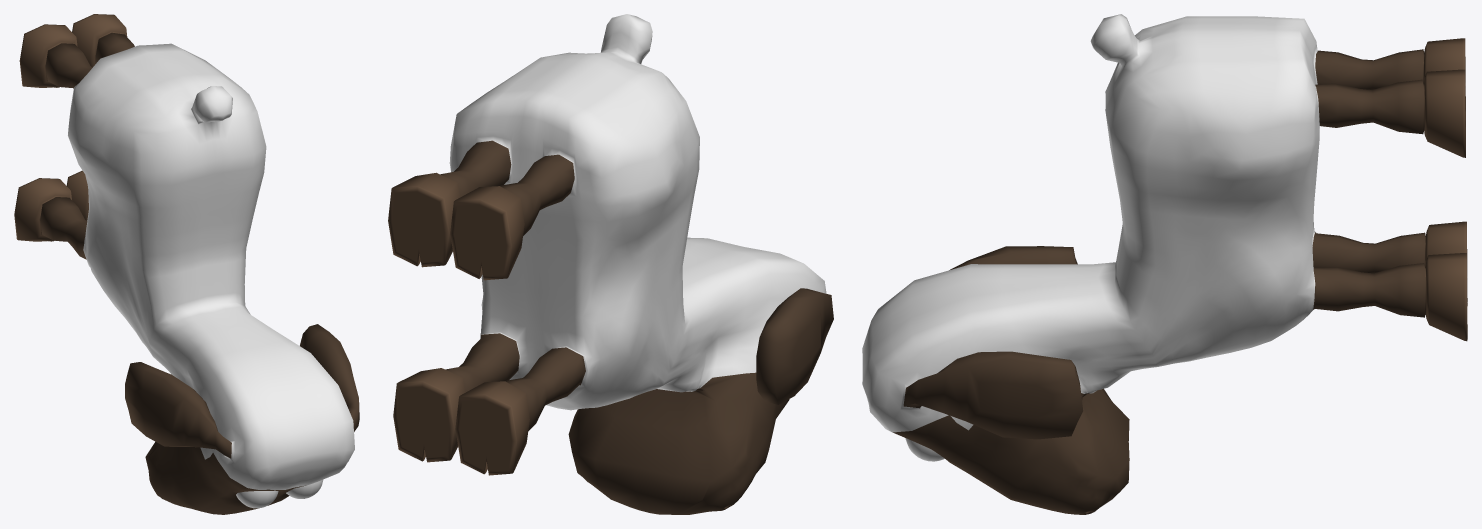
3 renders of one model, left to right at view 1: azimuth 30°, elevation 25°; view 2: azimuth 150°, elevation 25°; view 3: azimuth 270°, elevation 25°, orthographic. The views are drawn at different scales.
Parts seen in each view (by area): view 1: sheep.001; view 2: sheep.001; view 3: sheep.001.
Part boxes in pixels (x1=…): sheep.001: x1=14, y1=14, x2=359, y2=514; sheep.001: x1=388, y1=14, x2=833, y2=514; sheep.001: x1=862, y1=14, x2=1467, y2=514.
Size of the model in its own units: 2.5 by 4.92 by 5.55.
